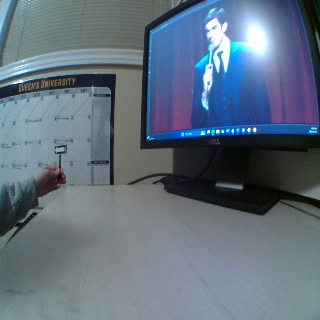sign_oneway_left: (54, 144, 69, 154)
